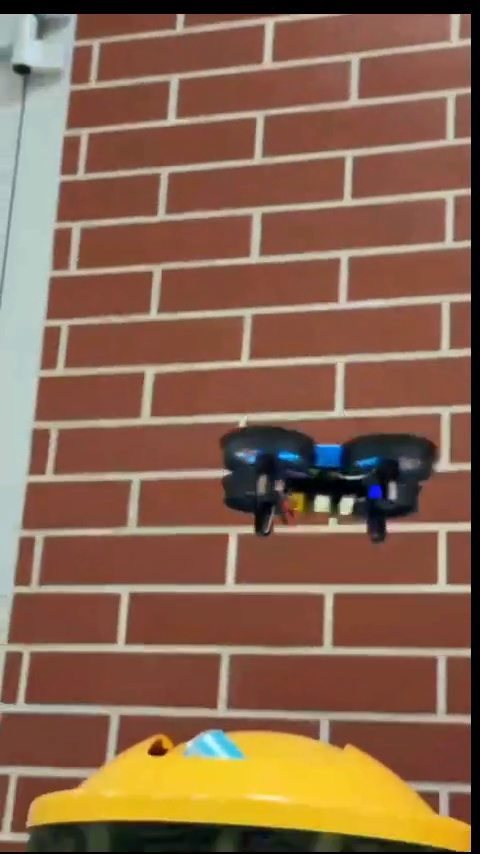drone: (213, 422, 435, 547)
